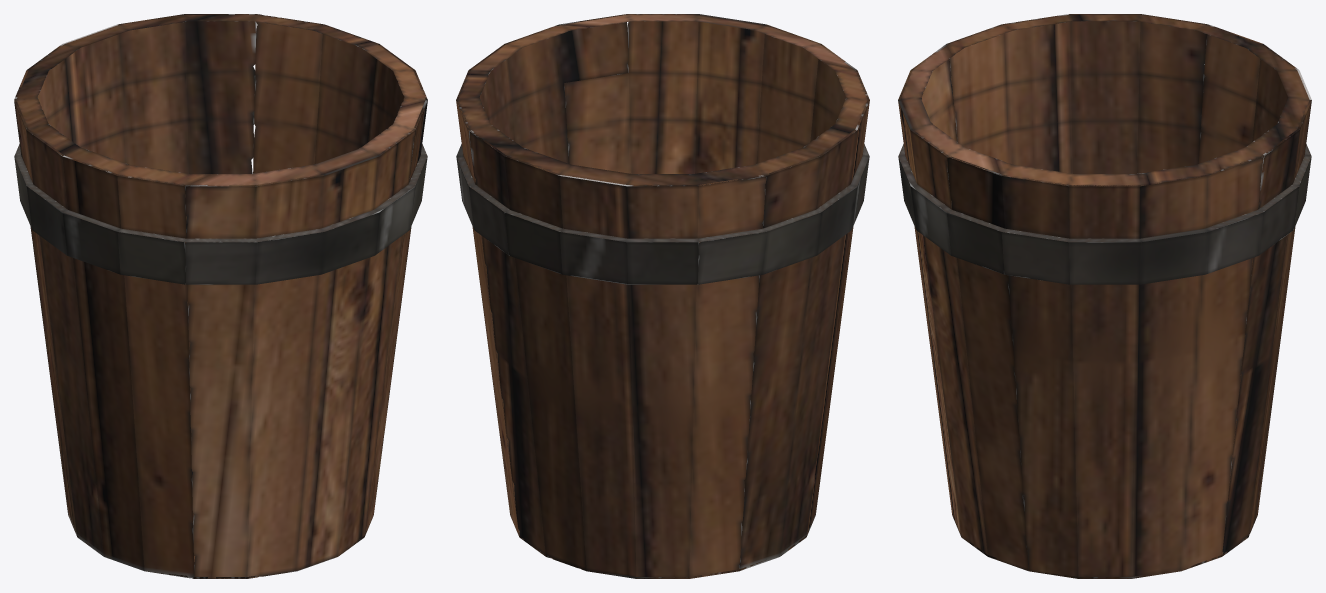
The model's file is TrashCan.fbx.
3 renders of one model, left to right at view 1: azimuth 30°, elevation 25°; view 2: azimuth 150°, elevation 25°; view 3: azimuth 270°, elevation 25°, orthographic.
Visible parts, largest first — view 1: 円柱; view 2: 円柱; view 3: 円柱.
Boxes of the visible parts, left/top/right/bottom form: 円柱: left=14, top=14, right=427, bottom=578; 円柱: left=456, top=14, right=869, bottom=578; 円柱: left=898, top=14, right=1311, bottom=578.
Size of the model in its own units: 178 by 201 by 181.
Materials: 1 (1 with a texture image).
